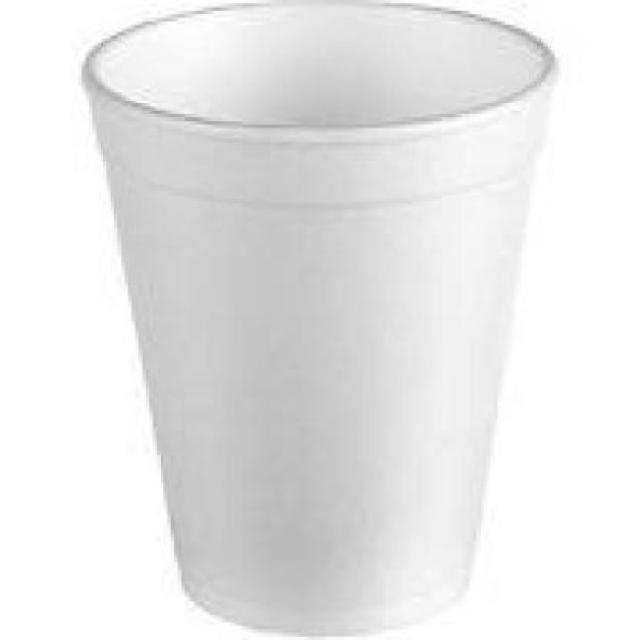PAPER: (84, 0, 558, 637)
